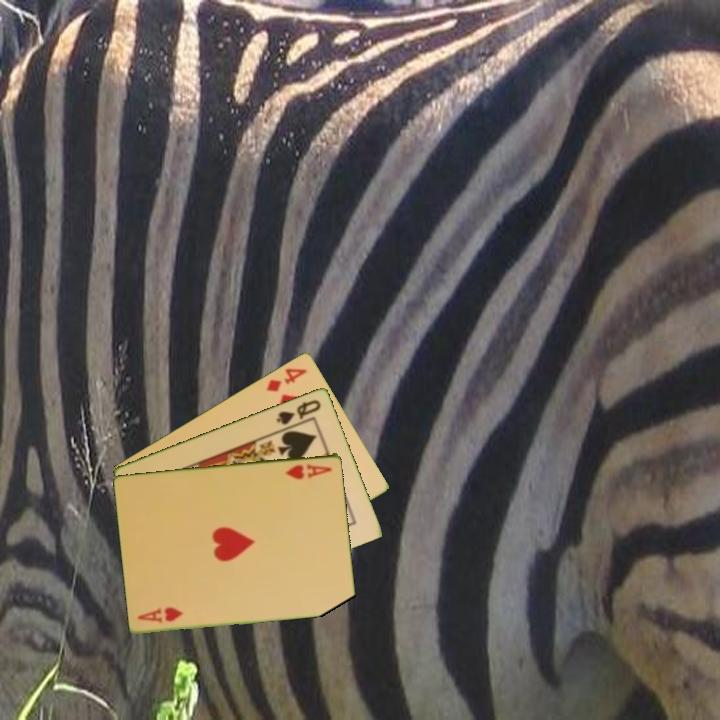4d: (262, 364, 310, 394)
Ah: (282, 461, 335, 482), (134, 605, 186, 626)
Qs: (273, 396, 324, 427)
